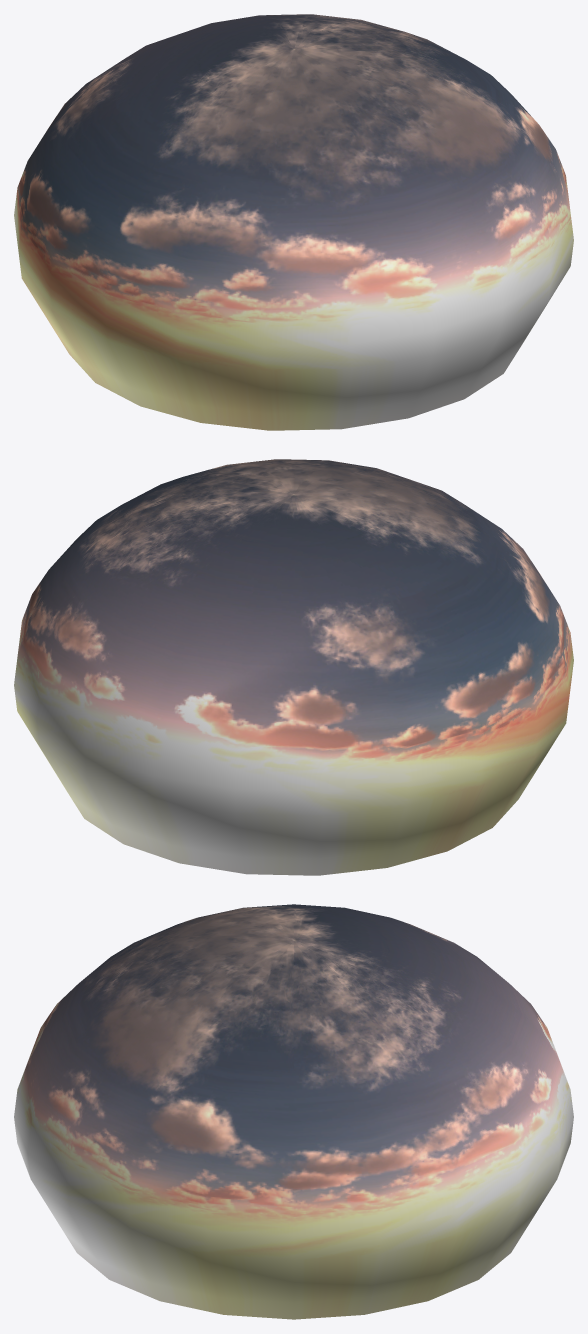
The model's file is another skybox.obj.
3 views of the same model, one above another, from view 1: azimuth 30°, elevation 25°; view 2: azimuth 150°, elevation 25°; view 3: azimuth 270°, elevation 25° (orthographic).
Parts seen in each view (by area): view 1: VR64Peach_1__m_VR64Peach; view 2: VR64Peach_1__m_VR64Peach; view 3: VR64Peach_1__m_VR64Peach.
Boxes of the visible parts, <box> form: VR64Peach_1__m_VR64Peach: <box>14,14,573,430</box>; VR64Peach_1__m_VR64Peach: <box>14,459,573,875</box>; VR64Peach_1__m_VR64Peach: <box>14,904,573,1319</box>.
Bounding box in the file's own units: 20075 × 14006 × 20075.
